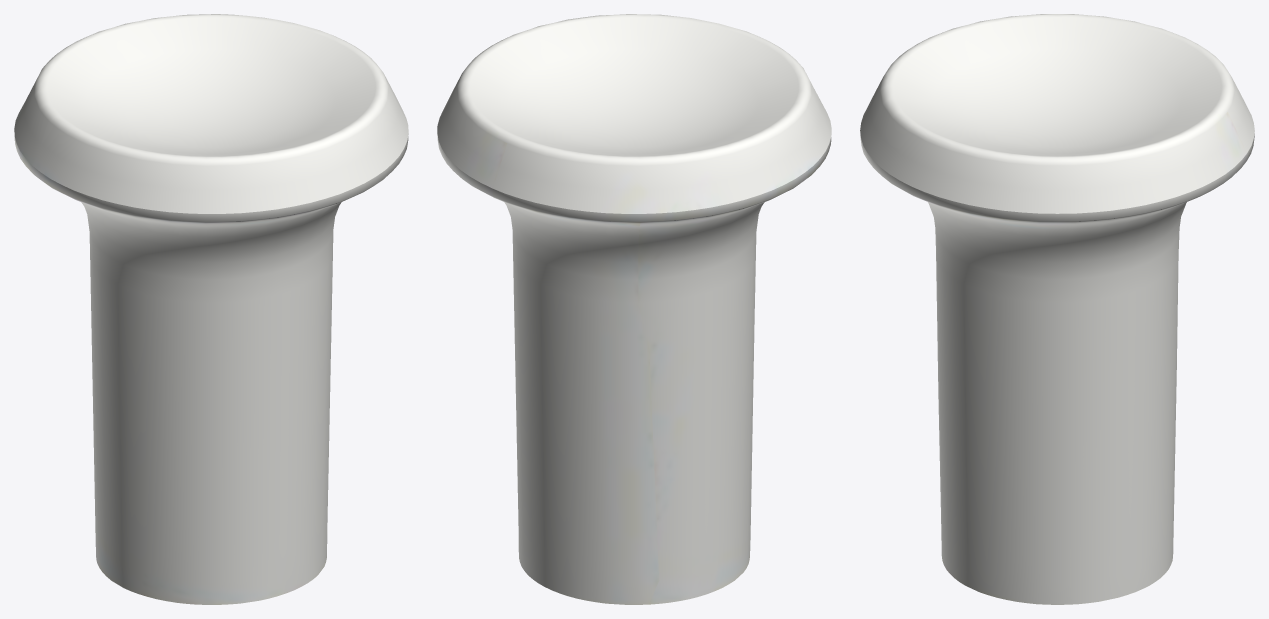
File: gubbarp_gaka_80336433.glb
3 views of the same model, side by side, from view 1: azimuth 30°, elevation 25°; view 2: azimuth 150°, elevation 25°; view 3: azimuth 270°, elevation 25° (orthographic).
Parts seen in each view (by area): view 1: gubbarp_gaka_80336433; view 2: gubbarp_gaka_80336433; view 3: gubbarp_gaka_80336433.
Part boxes in pixels (bbox=[...]): gubbarp_gaka_80336433: bbox=[14, 14, 408, 604]; gubbarp_gaka_80336433: bbox=[437, 14, 831, 604]; gubbarp_gaka_80336433: bbox=[860, 14, 1254, 604].
Size of the model in its own units: 0.0205 by 0.0269 by 0.0205.
Materials: 1 (1 with a texture image).
